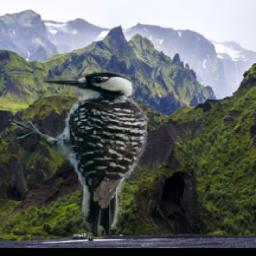Woodpecker: (1, 70, 154, 237)
